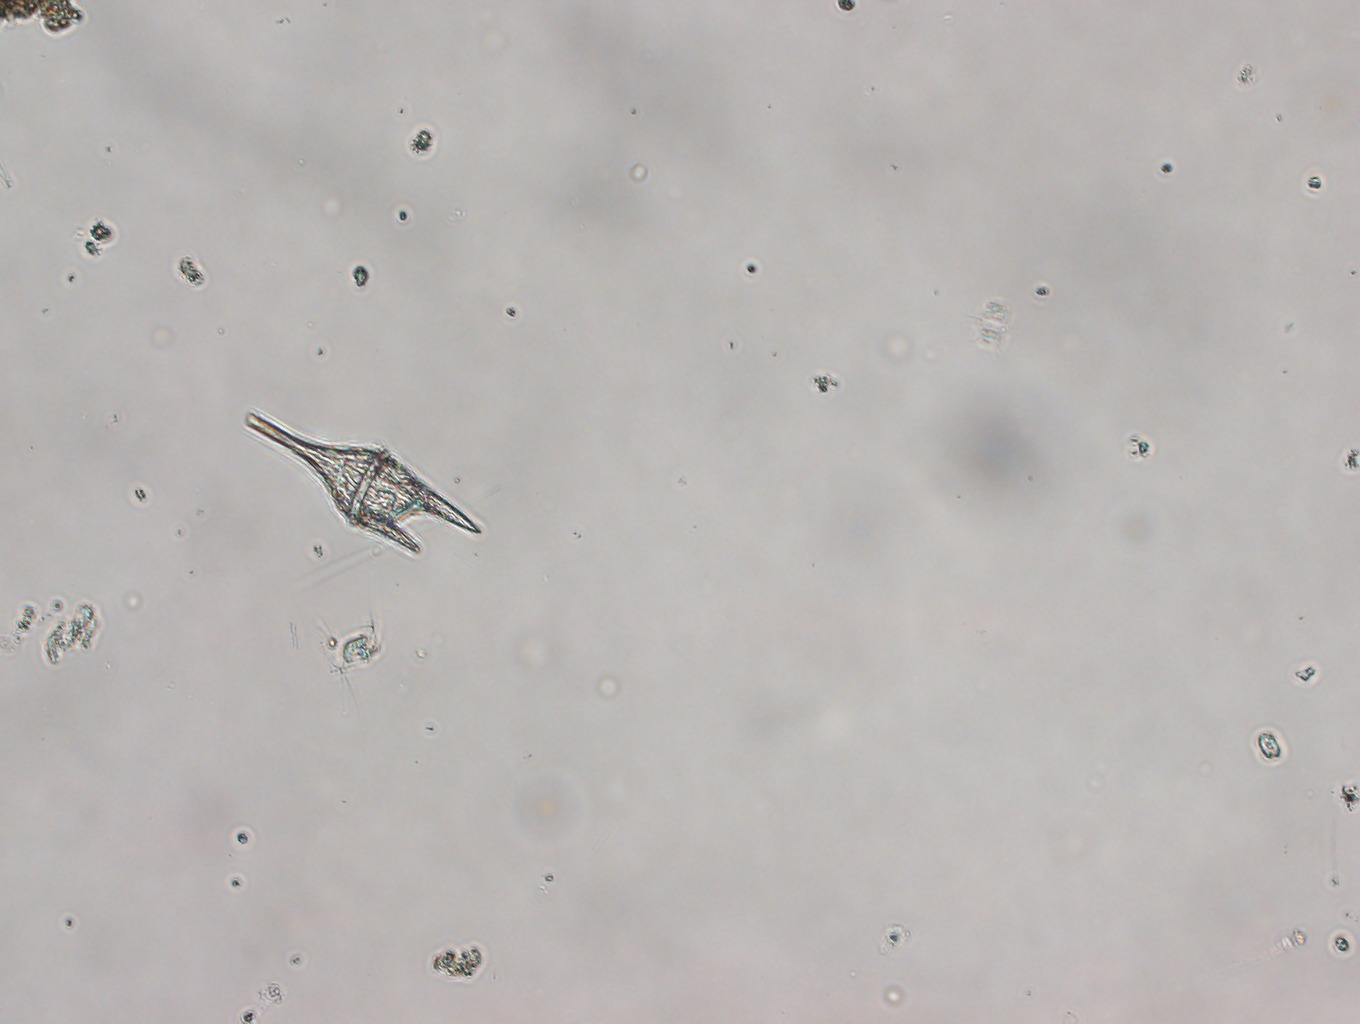ceratium furca: (235, 406, 486, 555)
